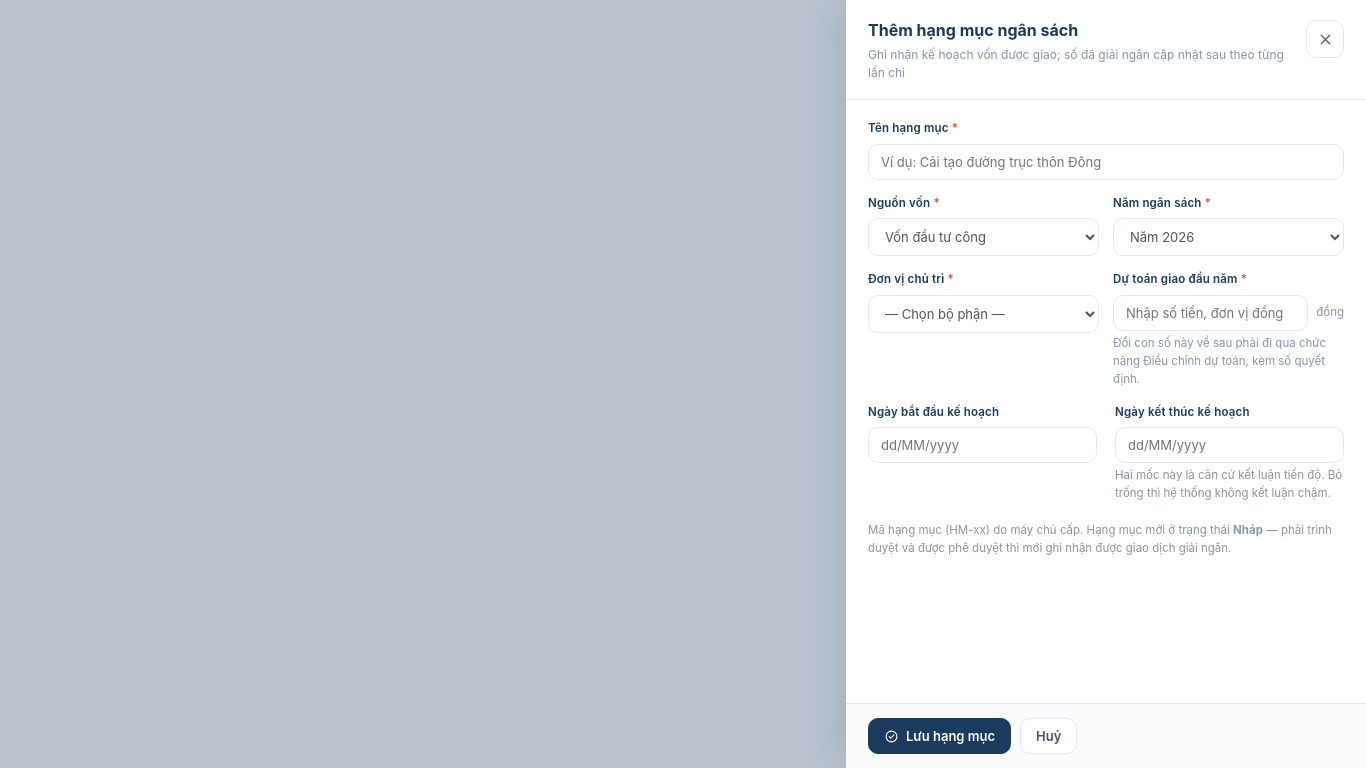
Test: AddBudgetForm › ô tiền tách nhóm nghìn ngay khi gõ để cán bộ đếm số 0 bằng mắt
The width and height of the screenshot is (1366, 768).
Type "850000000" into the field labelled "Dự toán giao đầu năm *" at (1211, 313), box [1113,295,1308,331]
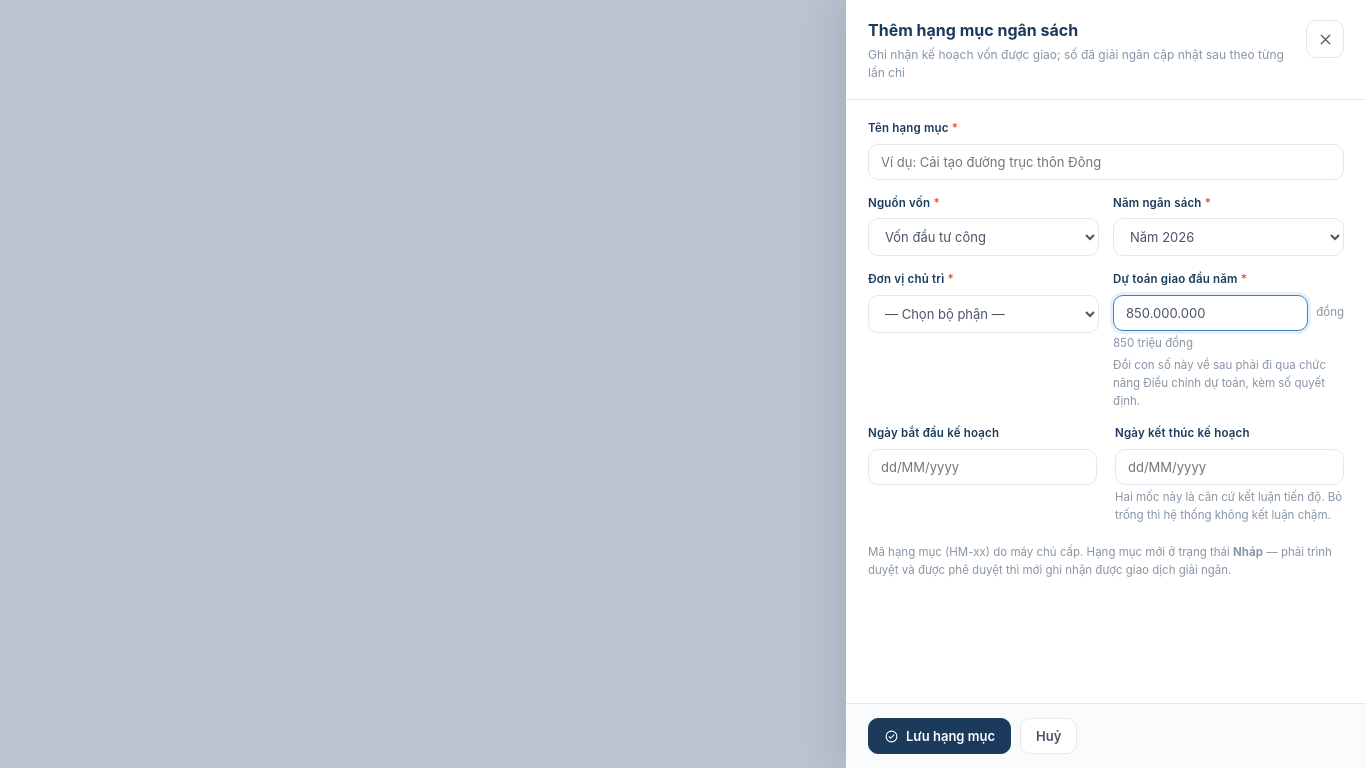
Check: the field labelled "Dự toán giao đầu năm *" holds "850.000.000", box [1113,295,1308,331]
